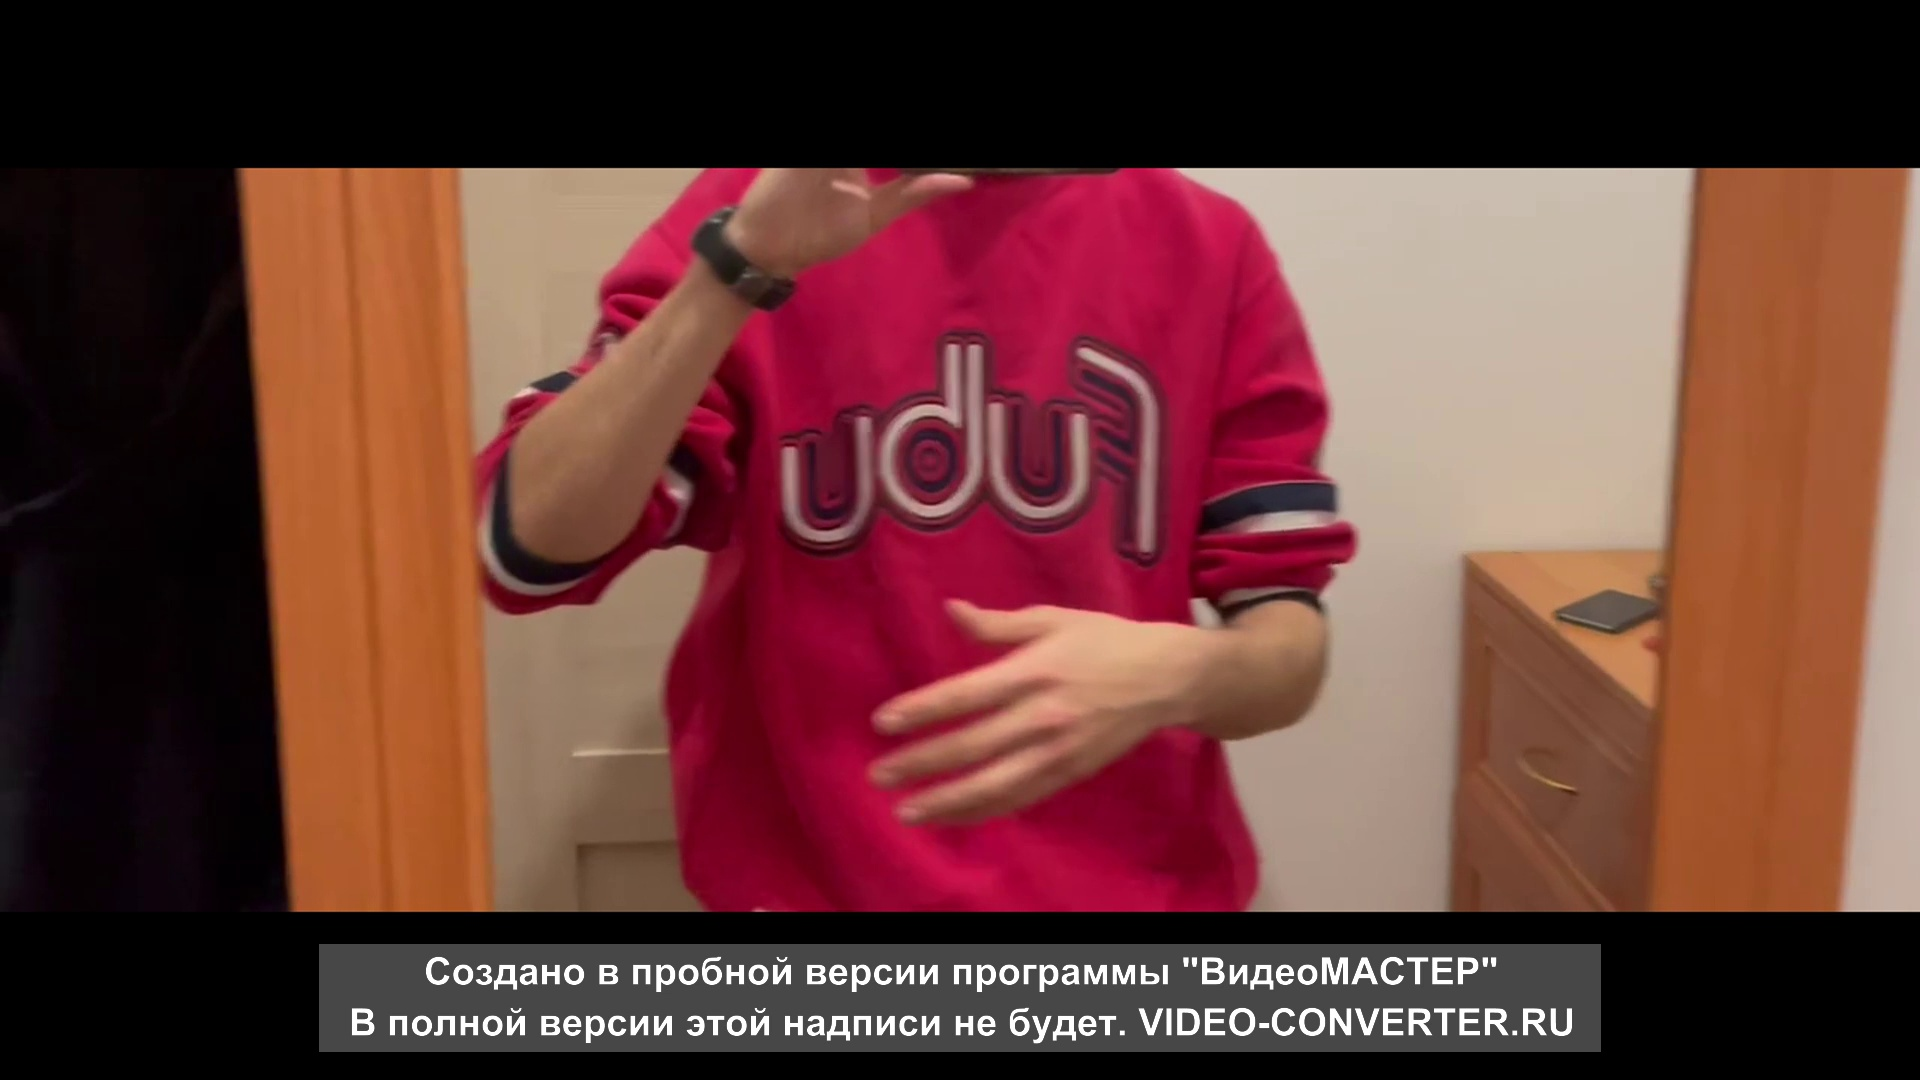Кисть: (864, 593, 1199, 828)
